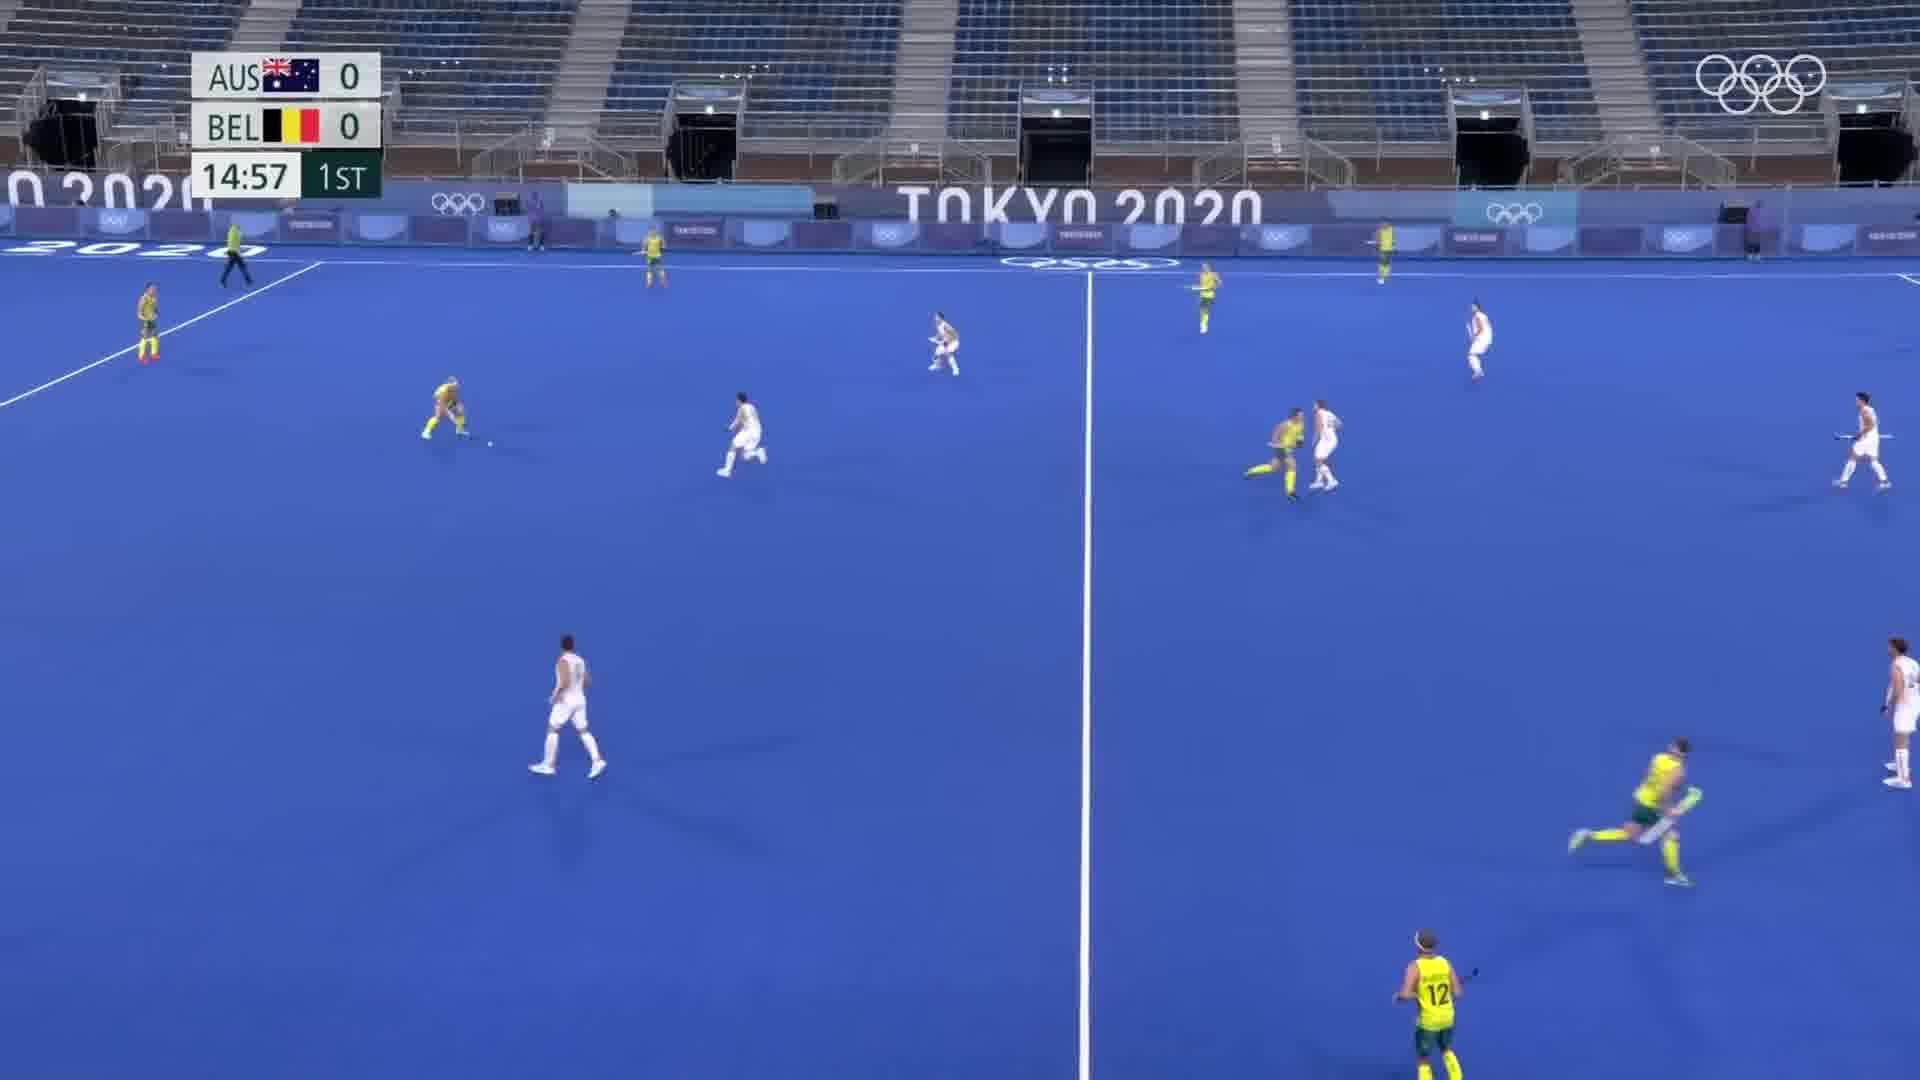ball: (469, 435, 502, 453)
